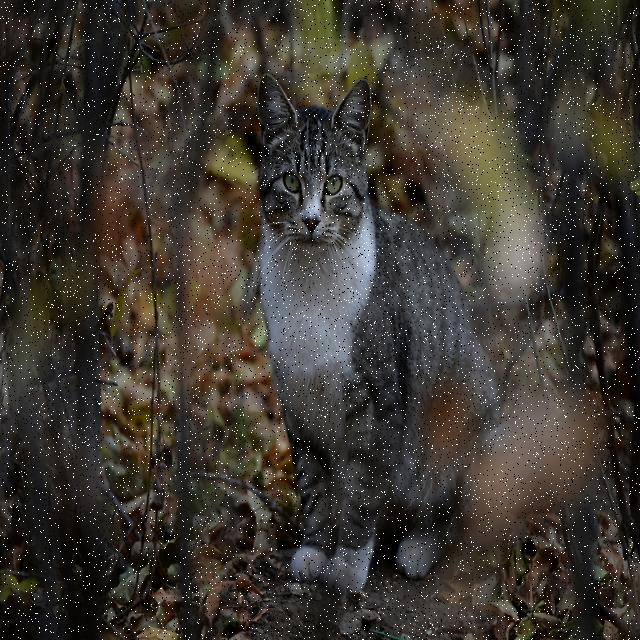cat: (259, 76, 499, 594)
